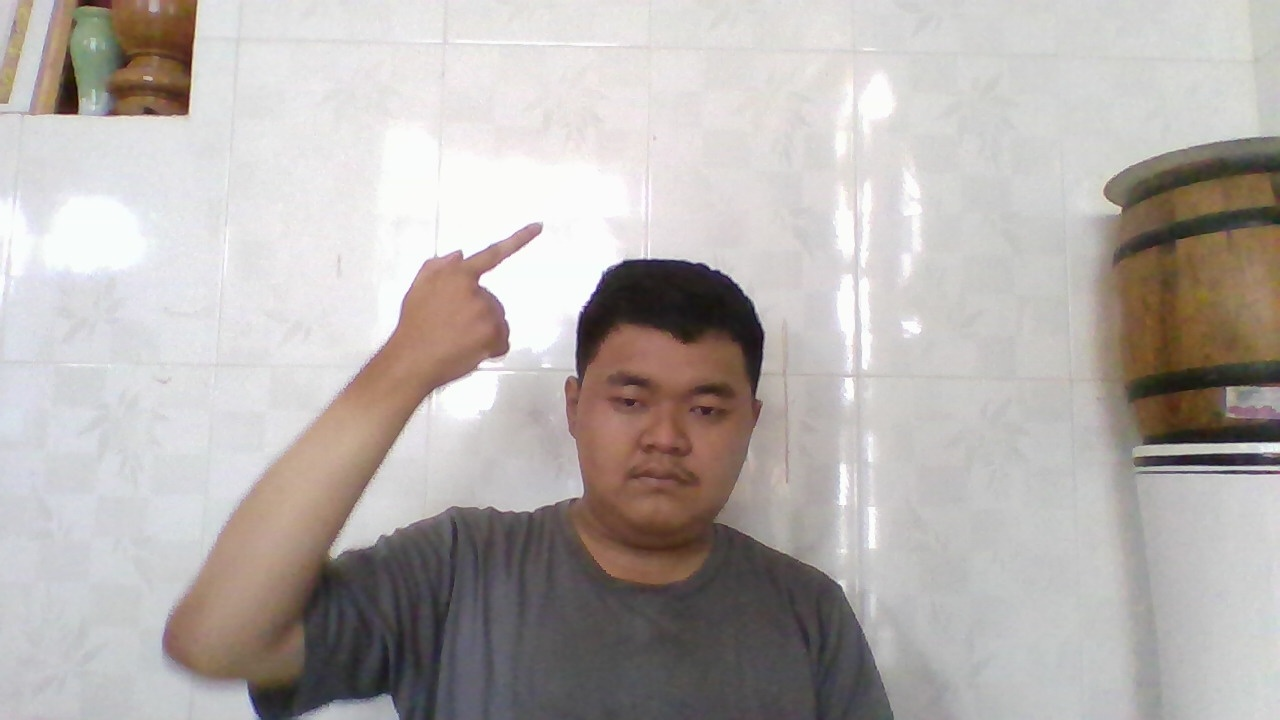G: (389, 211, 555, 376)
